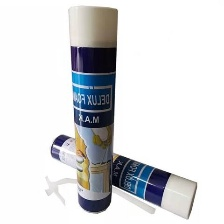aerosol_cans: (49, 132, 198, 221), (64, 2, 120, 216)
